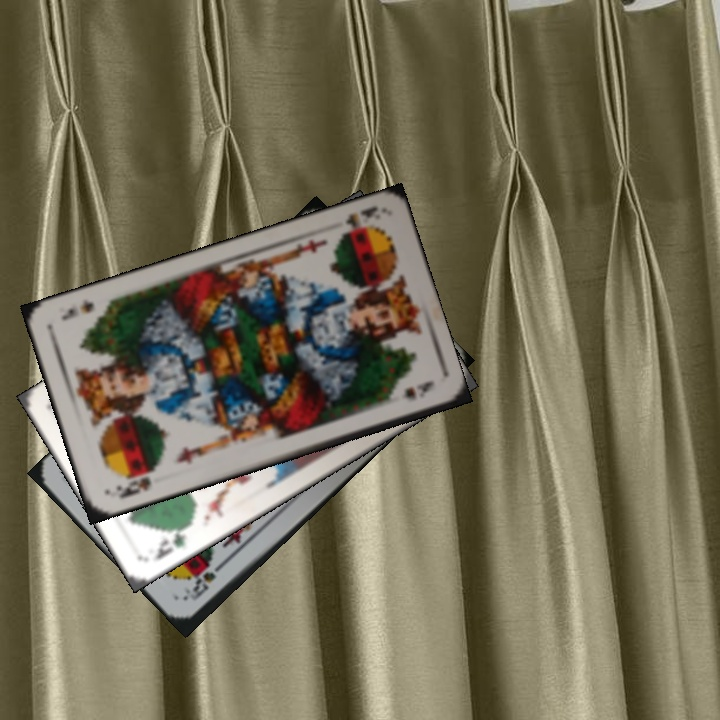GK: (150, 520, 192, 563)
SK: (181, 556, 229, 604), (338, 202, 381, 238), (112, 472, 154, 501)
